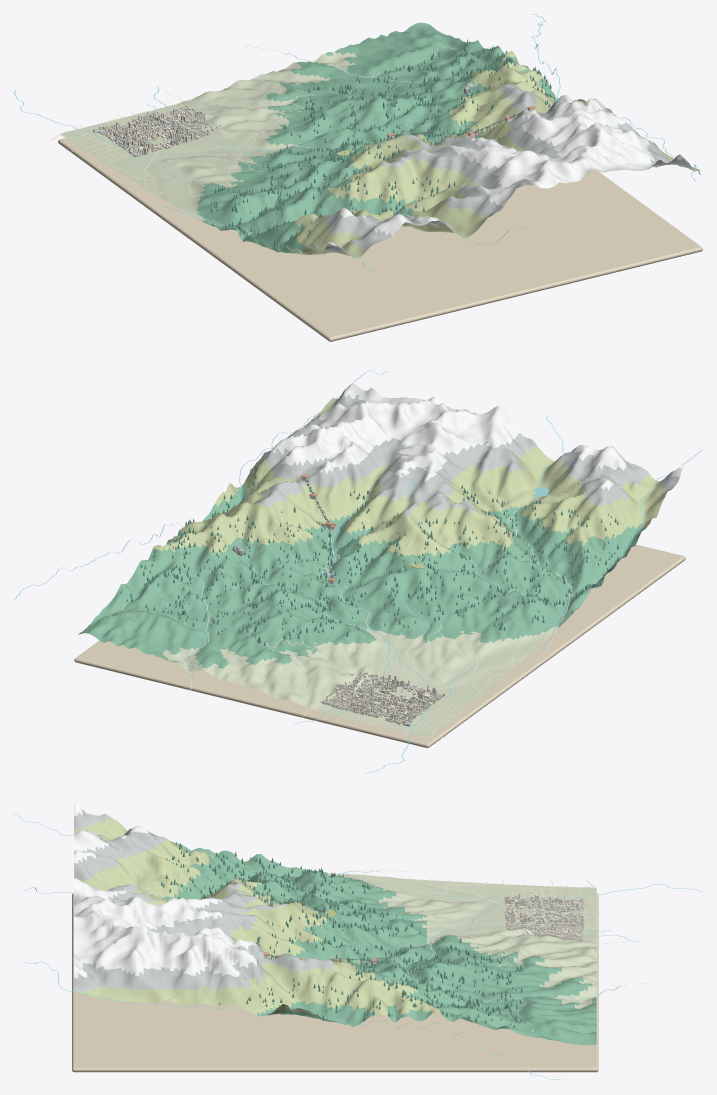
The model's file is almaty_diorama_full.glb.
3 renders of one model, top to bottom at view 1: azimuth 30°, elevation 25°; view 2: azimuth 150°, elevation 25°; view 3: azimuth 270°, elevation 25°, orthographic. The views are drawn at different scales.
Parts seen in each view (by area): view 1: Sculpted terrain, Rounded diorama base, Stylised alpine forest, Almaty city blocks, Road network, Mountain rivers; view 2: Sculpted terrain, Rounded diorama base, Stylised alpine forest, Almaty city blocks, Road network, Mountain rivers; view 3: Sculpted terrain, Rounded diorama base, Stylised alpine forest, Almaty city blocks, Road network, Mountain rivers.
Boxes of the visible parts, <box> form: Sculpted terrain: <box>60,22,700,258</box>; Rounded diorama base: <box>58,138,702,341</box>; Stylised alpine forest: <box>210,39,554,249</box>; Almaty city blocks: <box>93,105,650,157</box>; Road network: <box>51,45,456,235</box>; Mountain rivers: <box>14,14,700,270</box>; Sculpted terrain: <box>78,382,683,738</box>; Rounded diorama base: <box>74,544,685,748</box>; Stylised alpine forest: <box>120,468,630,645</box>; Almaty city blocks: <box>286,423,444,726</box>; Road network: <box>122,474,607,737</box>; Mountain rivers: <box>14,370,702,773</box>; Sculpted terrain: <box>74,802,596,1045</box>; Rounded diorama base: <box>72,893,598,1072</box>; Stylised alpine forest: <box>161,841,522,1028</box>; Almaty city blocks: <box>168,894,584,1000</box>; Road network: <box>108,840,660,1031</box>; Mountain rivers: <box>14,813,702,1080</box>.
Bounding box in the file's own units: 26.83 × 6.48 × 35.16.
